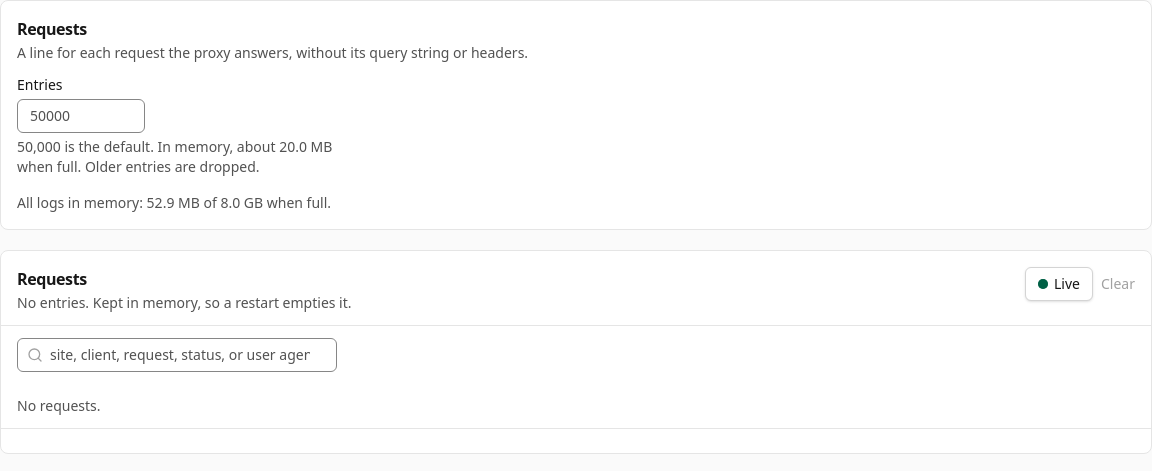
RequestsTab › keeps how many requests in the draft
Type "100000" into the number field with id "requests-entries" at (81, 116), box [17, 99, 145, 133]
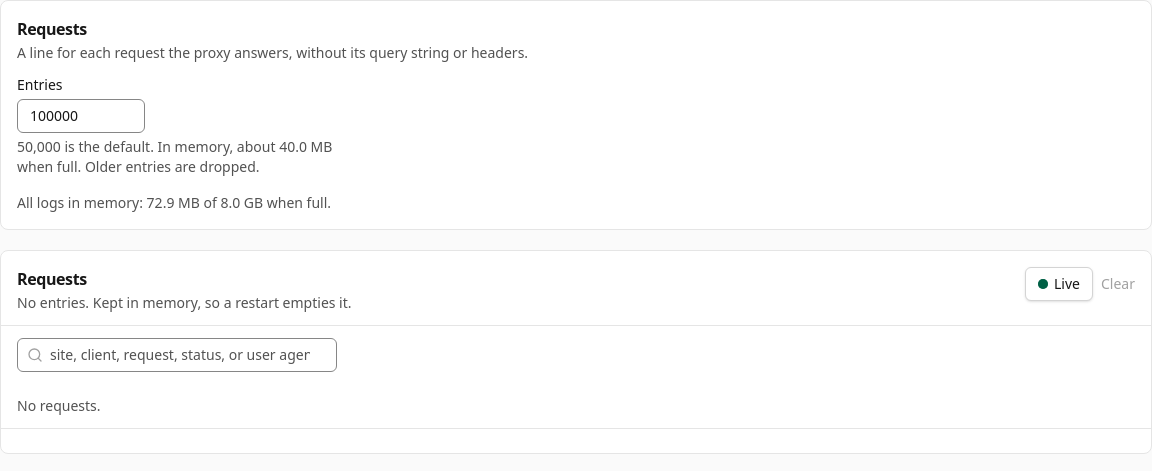
Expected: the text "In memory, about 40.0 MB when full." is shown, [17, 137, 332, 176]
